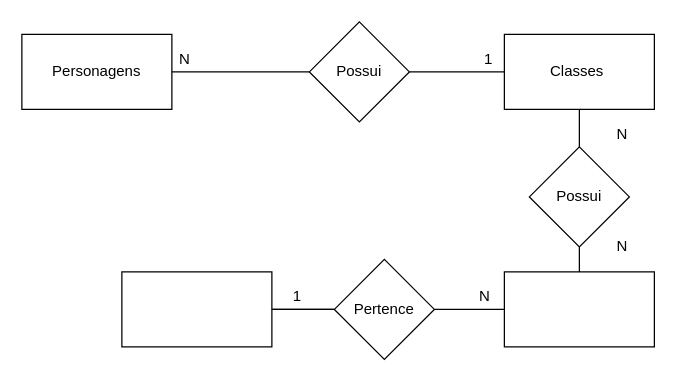
This 676x381 diagram has some shape labels left out. The centre of each missing label's shape, as x and y in pixels:
"Habilidades" goes at point 578,309.
"Tipos de Habilidade" goes at point 196,309.
